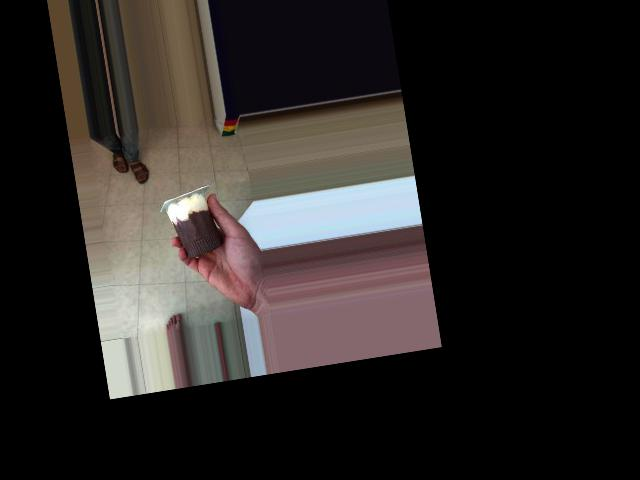milky: (166, 176, 220, 266)
